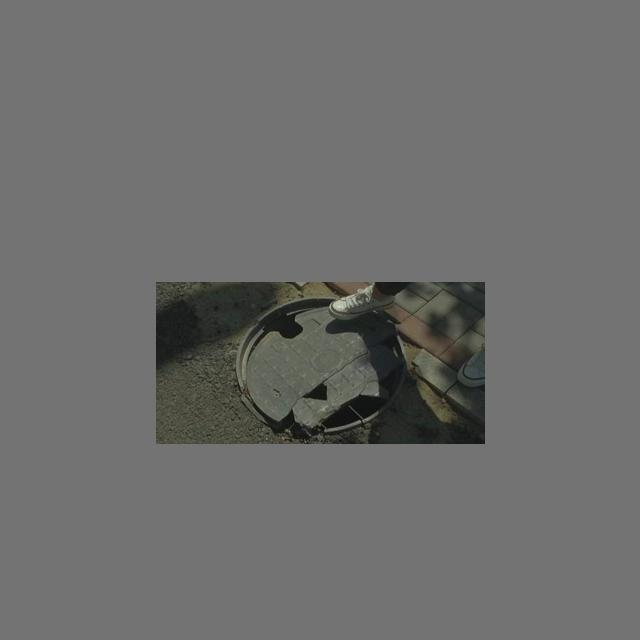broke: (234, 296, 406, 433)
